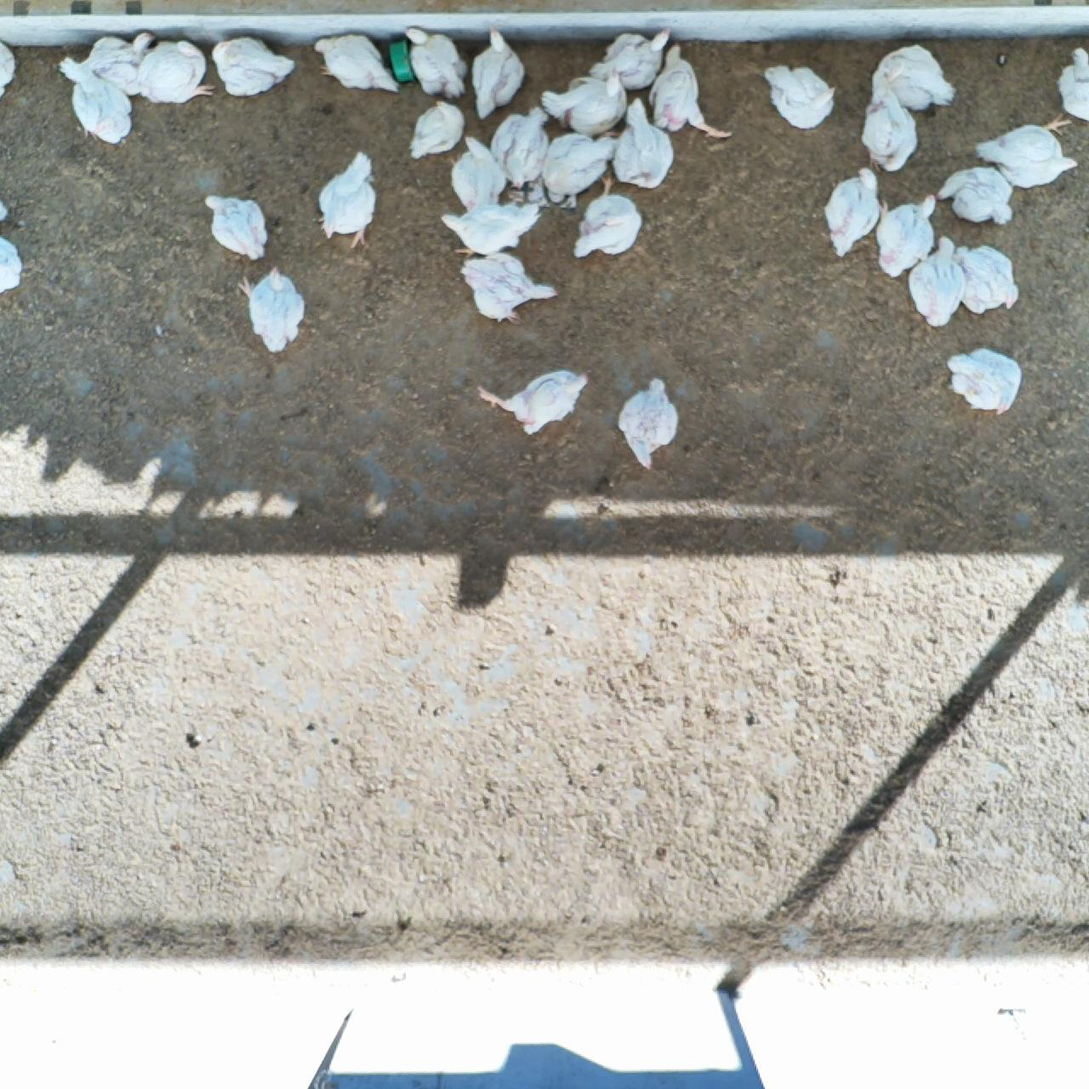chicken: (647, 41, 731, 145), (972, 113, 1078, 192), (456, 247, 559, 327), (476, 371, 587, 439), (58, 27, 156, 98), (239, 260, 310, 355), (436, 198, 542, 259), (319, 146, 379, 251), (617, 374, 680, 473), (541, 67, 631, 135), (66, 63, 137, 149), (572, 172, 639, 261), (540, 130, 618, 206), (824, 164, 886, 259), (876, 189, 941, 279), (125, 36, 216, 100), (313, 28, 401, 94), (465, 23, 528, 115), (861, 74, 920, 172), (875, 43, 956, 113), (209, 33, 295, 98), (908, 231, 966, 327), (759, 61, 837, 132), (587, 25, 670, 91), (947, 344, 1024, 415), (952, 240, 1023, 316), (488, 102, 552, 186), (612, 101, 669, 191), (199, 188, 270, 259), (934, 163, 1014, 224), (407, 23, 467, 100), (450, 135, 506, 211), (407, 96, 466, 164), (1058, 45, 1089, 124), (0, 235, 25, 293), (0, 40, 17, 105)
